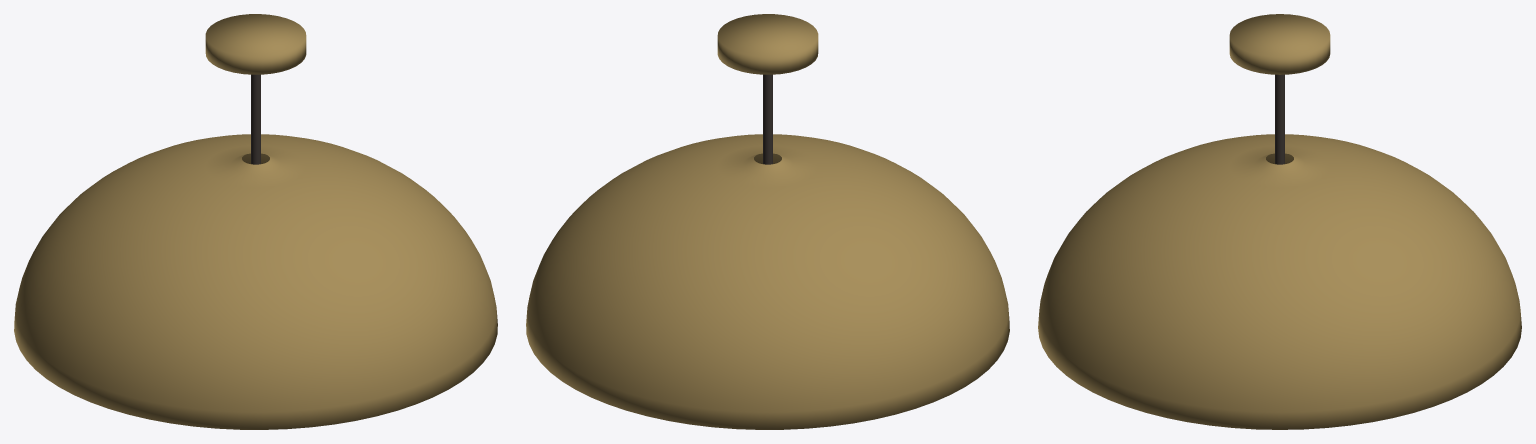
The model's file is pendant.glb.
3 renders of one model, left to right at view 1: azimuth 30°, elevation 25°; view 2: azimuth 150°, elevation 25°; view 3: azimuth 270°, elevation 25°, orthographic.
Visible parts, largest first — view 1: shade, canopy, cord; view 2: shade, canopy, cord; view 3: shade, canopy, cord.
Boxes of the visible parts, x1,y1,x2,y2 form: shade: (14,134,497,429); canopy: (205,14,306,74); cord: (251,74,260,164); shade: (526,134,1009,429); canopy: (717,14,818,74); cord: (763,74,772,164); shade: (1038,134,1521,429); canopy: (1229,14,1330,74); cord: (1275,74,1284,164).
Bounding box in the file's own units: 0.48 × 0.322 × 0.48.
